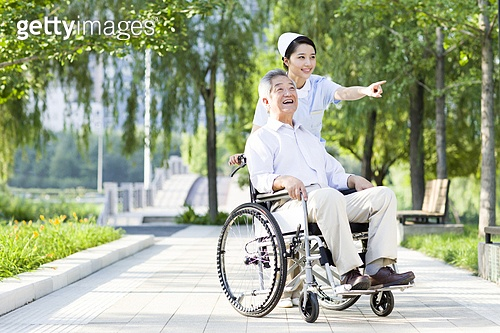wheelchair: (215, 70, 417, 326)
